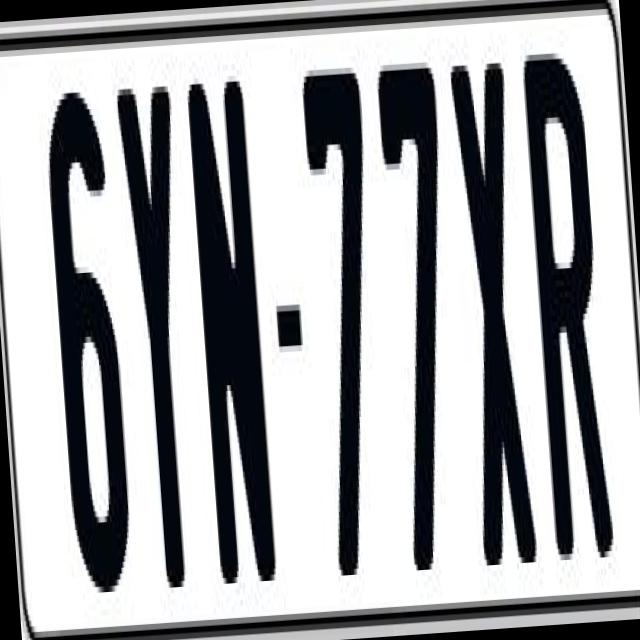6: (37, 73, 129, 594)
7: (298, 54, 398, 594), (372, 61, 468, 600)
N: (186, 80, 283, 601)
R: (522, 51, 614, 572)
X: (450, 56, 540, 582)
Y: (112, 74, 206, 606)
